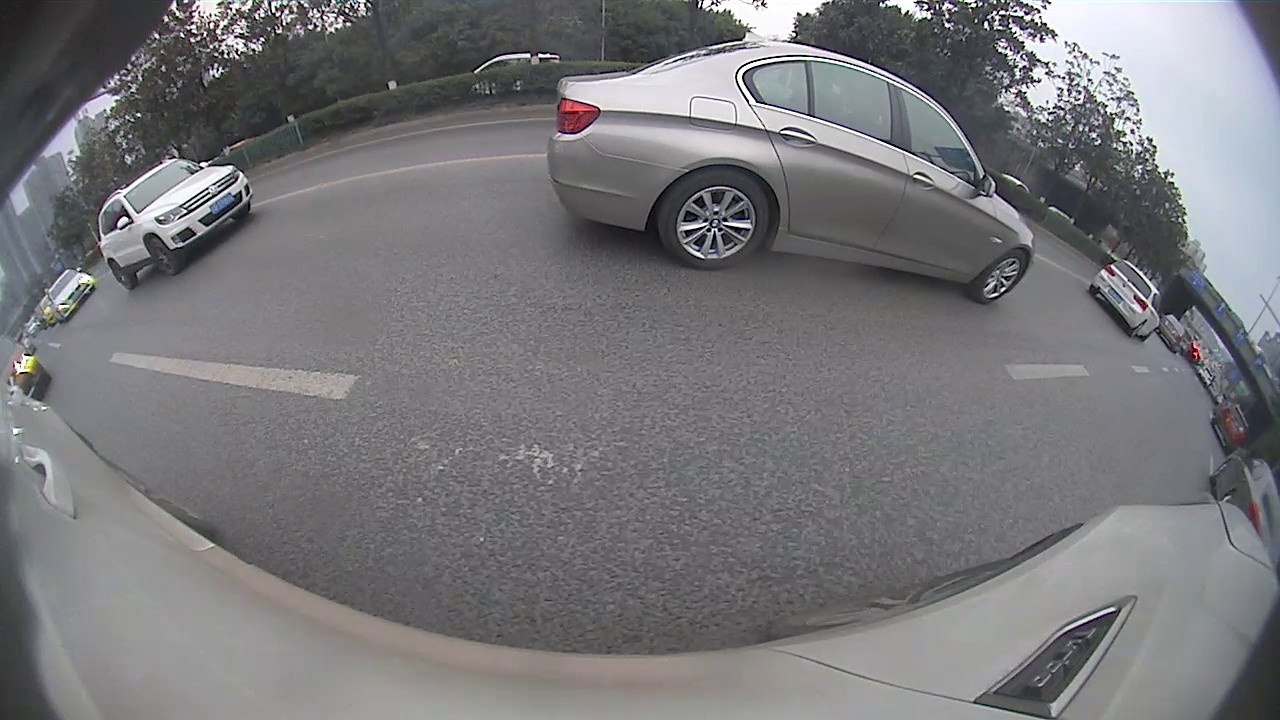car: (546, 28, 1037, 307), (97, 158, 253, 292), (1088, 258, 1163, 343), (3, 334, 50, 401), (46, 267, 98, 322), (1209, 402, 1254, 454)
front: (970, 245, 1028, 304), (146, 235, 181, 277)
rear: (659, 167, 770, 272), (110, 260, 137, 290)
